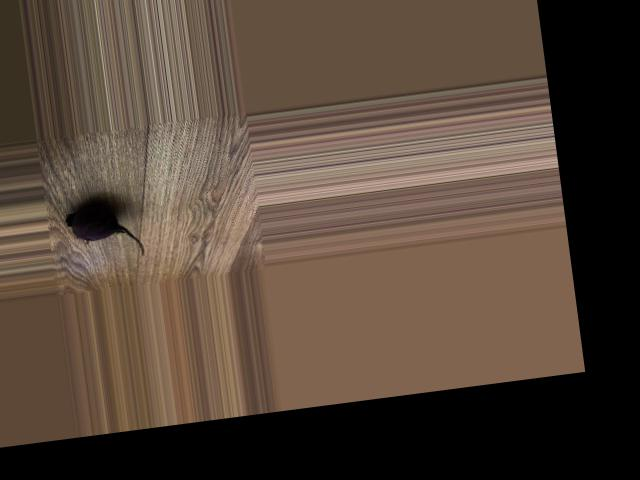beet: (65, 199, 146, 264)
